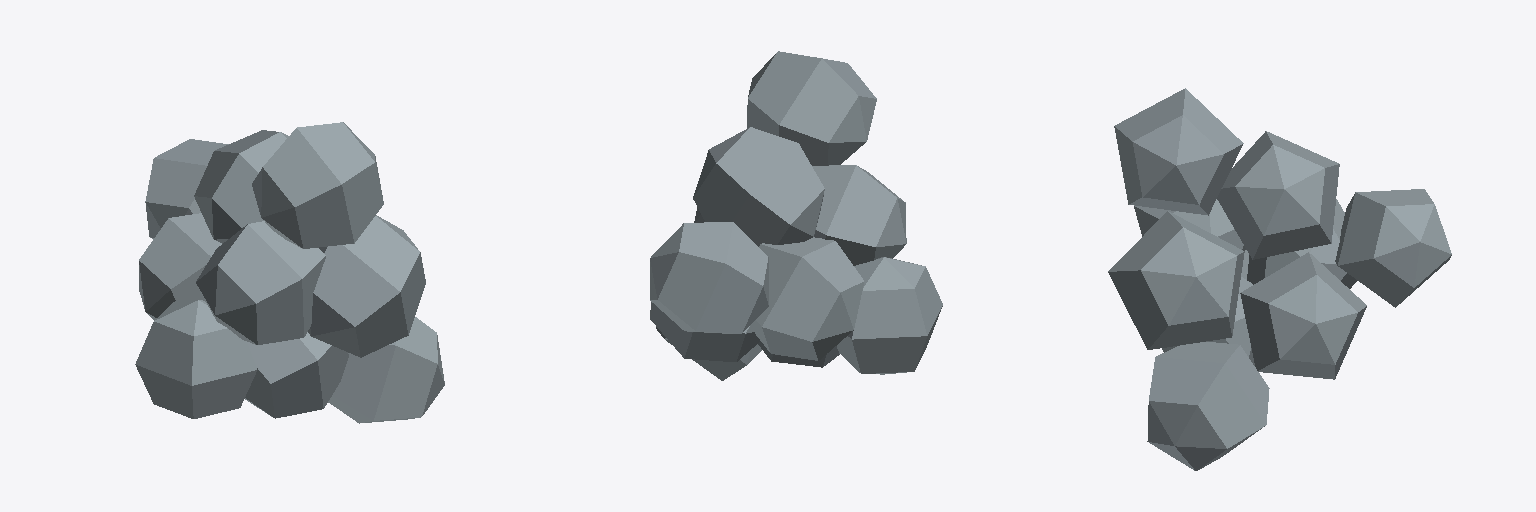
File: bolas.obj
3 views of the same model, side by side, from view 1: azimuth 30°, elevation 25°; view 2: azimuth 150°, elevation 25°; view 3: azimuth 270°, elevation 25° (orthographic).
Parts seen in each view (by area): view 1: bolas; view 2: bolas; view 3: bolas.
Part boxes in pixels (bbox=[...]): bolas: bbox=[135, 122, 444, 423]; bolas: bbox=[650, 51, 942, 380]; bolas: bbox=[1108, 88, 1451, 470].
Bounding box in the file's own units: 5 × 5.61 × 5.32.